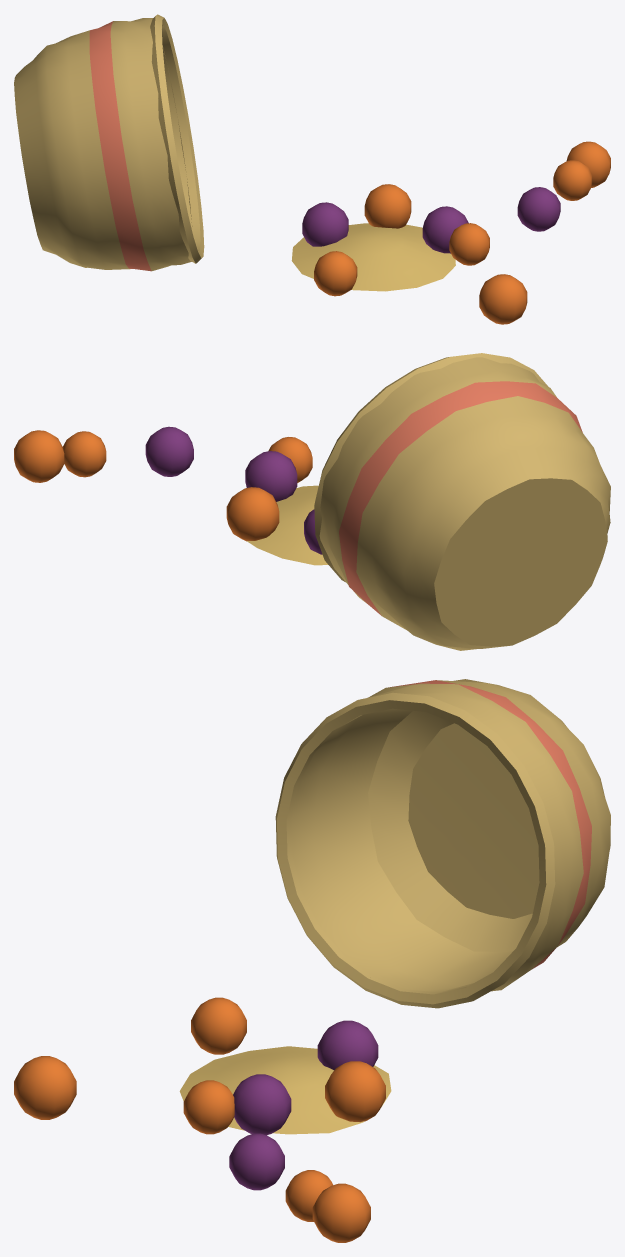
File: deco_basket_spilled.fbx
The picture shows the model from 3 angles, top to bottom: view 1: azimuth 30°, elevation 25°; view 2: azimuth 150°, elevation 25°; view 3: azimuth 270°, elevation 25°; orthographic projection. The views are drawn at different scales.
Visible parts, largest first — view 1: Basket_Spilled_Basket, Basket_Spilled_Spill; view 2: Basket_Spilled_Basket, Basket_Spilled_Spill; view 3: Basket_Spilled_Basket, Basket_Spilled_Spill.
Part boxes in pixels (x1,y1,x2,y2): Basket_Spilled_Basket: (14, 14, 204, 271); Basket_Spilled_Spill: (291, 141, 610, 324); Basket_Spilled_Basket: (314, 353, 610, 650); Basket_Spilled_Spill: (14, 426, 327, 565); Basket_Spilled_Basket: (275, 679, 610, 1008); Basket_Spilled_Spill: (14, 997, 391, 1242).
Size of the model in its own units: 199 by 80.81 by 147.
